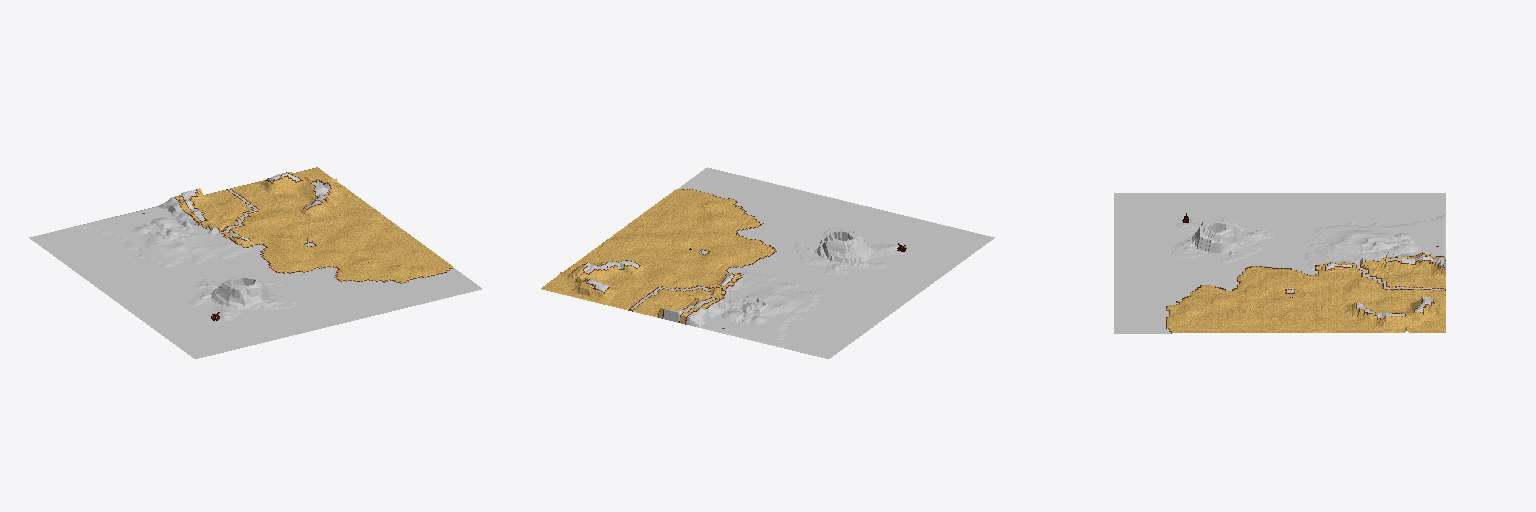
3 renders of one model, left to right at view 1: azimuth 30°, elevation 25°; view 2: azimuth 150°, elevation 25°; view 3: azimuth 270°, elevation 25°, orthographic.
Visible parts, largest first — view 1: _Ground_; view 2: _Ground_; view 3: _Ground_.
Boxes of the visible parts, x1,y1,x2,y2 form: _Ground_: [29, 167, 481, 358]; _Ground_: [541, 167, 994, 358]; _Ground_: [1114, 193, 1445, 333].
Bounding box in the file's own units: 65024 × 3200 × 65024.
Materials: 71 (31 with a texture image).